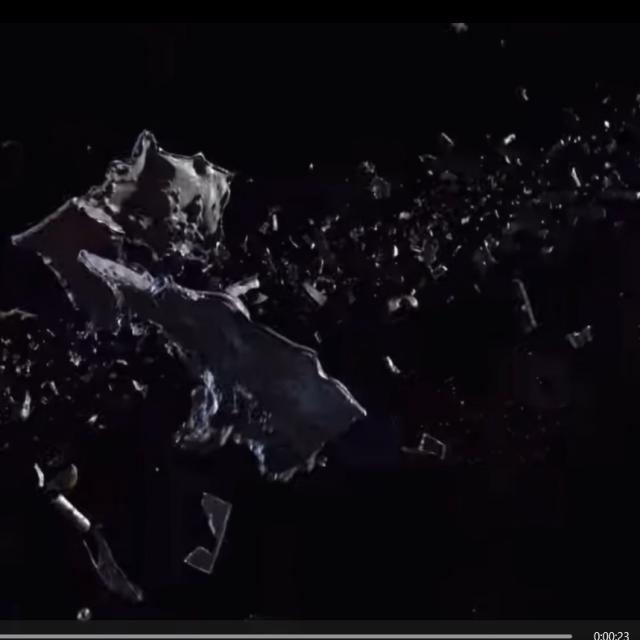large_debris: (10, 112, 363, 491), (29, 453, 146, 609), (180, 486, 233, 584), (492, 268, 541, 345), (399, 415, 455, 470), (559, 315, 605, 363)
